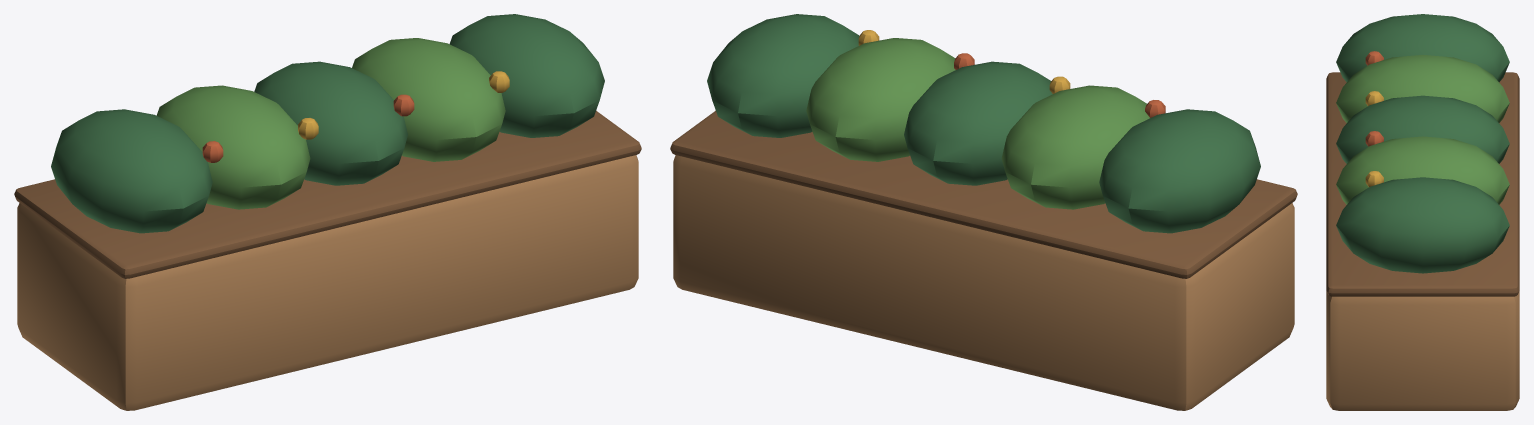
The model's file is planter_box.glb.
3 views of the same model, side by side, from view 1: azimuth 30°, elevation 25°; view 2: azimuth 150°, elevation 25°; view 3: azimuth 270°, elevation 25° (orthographic). The views are drawn at different scales.
Parts seen in each view (by area): view 1: FURN-planter_box; view 2: FURN-planter_box; view 3: FURN-planter_box.
Part boxes in pixels (x1,y1,x2,y2): FURN-planter_box: (14,14,641,410); FURN-planter_box: (670,14,1297,410); FURN-planter_box: (1326,14,1519,410).
Size of the model in its own units: 1.6 by 0.7 by 0.6.
